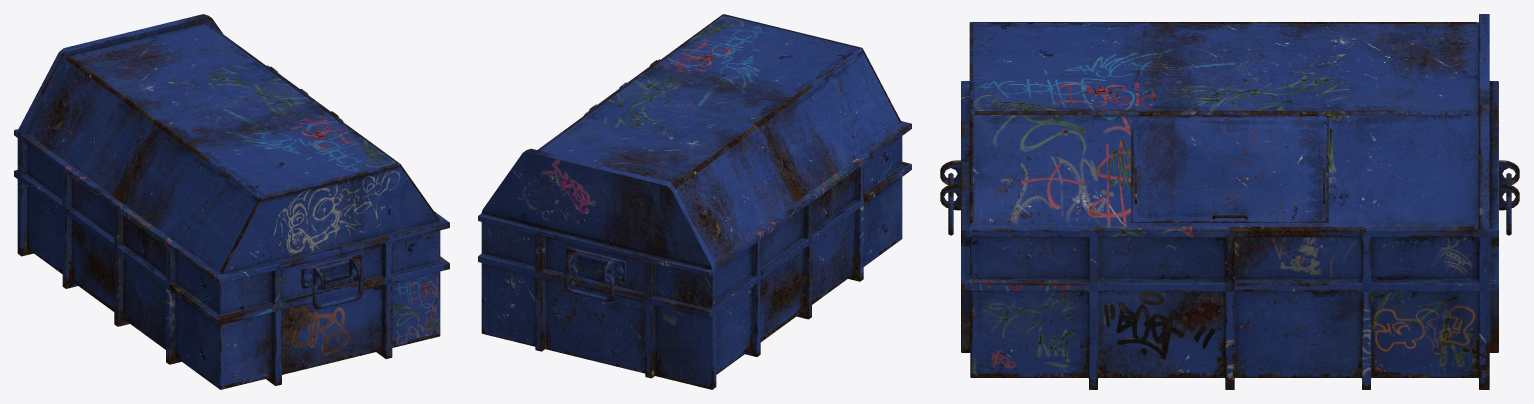
The model's file is Prop_BigGarbageContainer.fbx.
3 views of the same model, side by side, from view 1: azimuth 30°, elevation 25°; view 2: azimuth 150°, elevation 25°; view 3: azimuth 270°, elevation 25° (orthographic). The views are drawn at different scales.
Parts seen in each view (by area): view 1: Prop_BigGarbageContainer; view 2: Prop_BigGarbageContainer; view 3: Prop_BigGarbageContainer.
Part boxes in pixels (<box>): Prop_BigGarbageContainer: <box>14,14,449,389</box>; Prop_BigGarbageContainer: <box>478,14,911,389</box>; Prop_BigGarbageContainer: <box>940,14,1519,389</box>.
Size of the model in its own units: 107 by 85.54 by 175.
